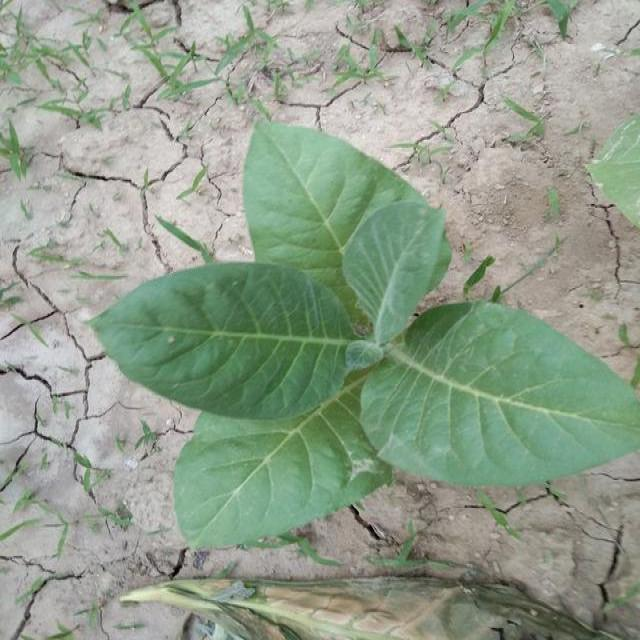crop: (83, 108, 640, 556)
